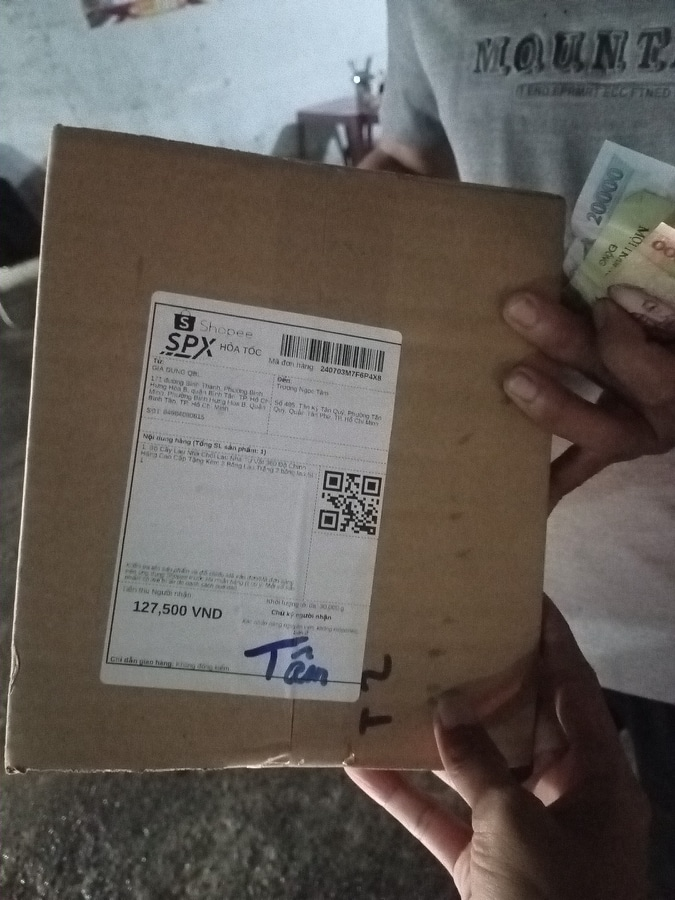pod: (85, 277, 403, 694)
